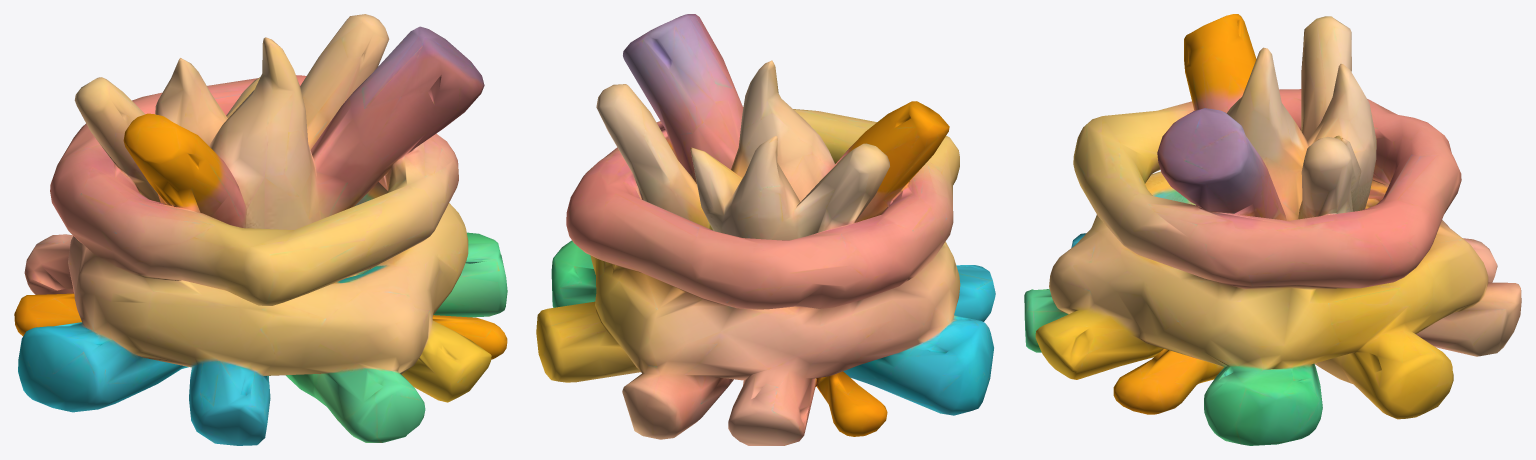
Rendered from clay-campfire.glb.
3 renders of one model, left to right at view 1: azimuth 30°, elevation 25°; view 2: azimuth 150°, elevation 25°; view 3: azimuth 270°, elevation 25°, orthographic. The views are drawn at different scales.
Bounding box in the file's own units: 1.9 × 1.23 × 1.87.
Materials: 1 (1 with a texture image).
